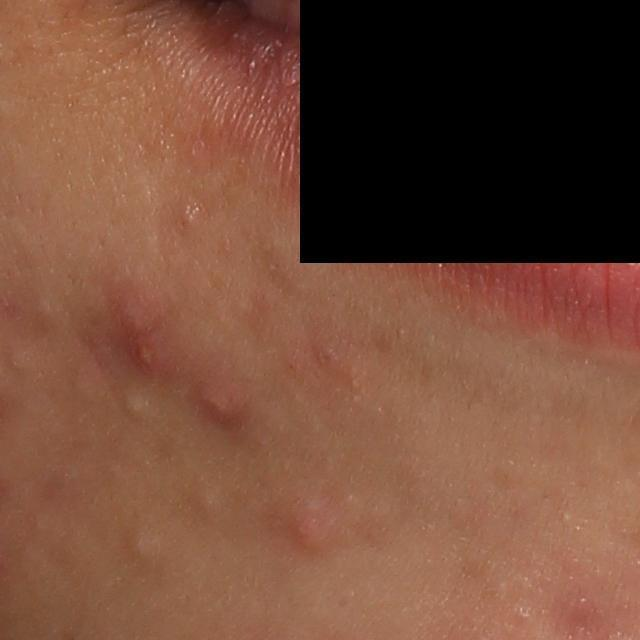comedo: (28, 291, 72, 340), (194, 478, 231, 529), (130, 525, 162, 565), (121, 390, 153, 421), (174, 204, 201, 236)
papule: (103, 284, 191, 397), (270, 484, 348, 563), (187, 359, 262, 433)
